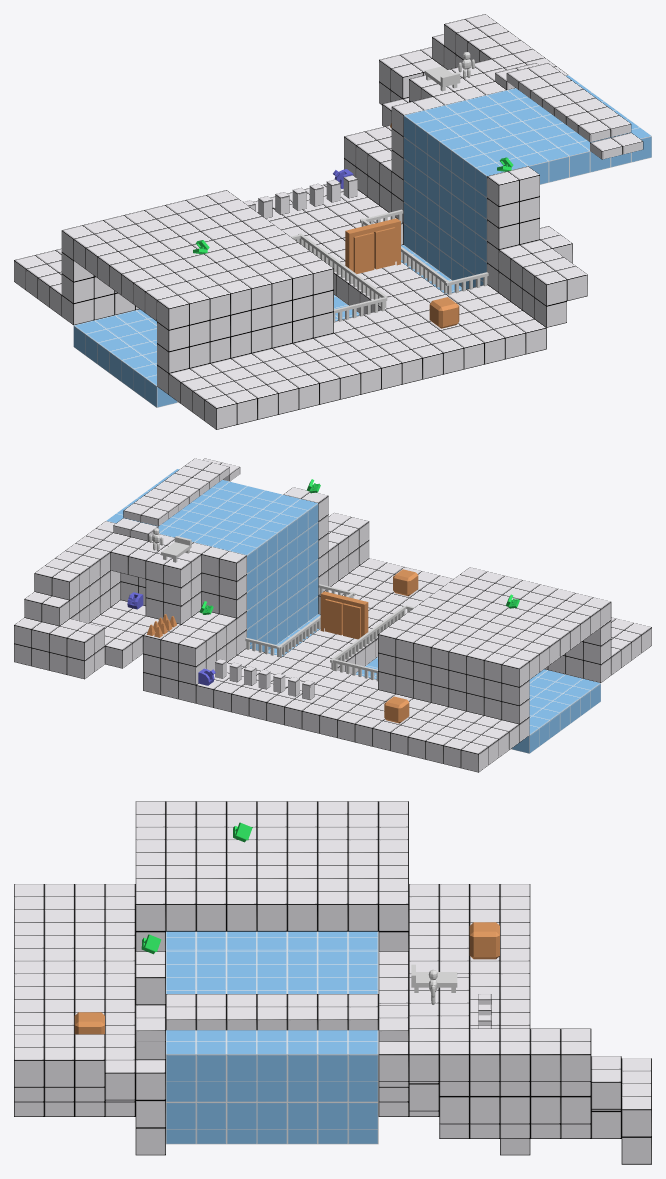
File: stage blockout.fbx
The picture shows the model from 3 angles, top to bottom: view 1: azimuth 30°, elevation 25°; view 2: azimuth 150°, elevation 25°; view 3: azimuth 270°, elevation 25°; orthographic projection. The views are drawn at different scales.
Visible parts, largest first — view 1: Cube.021, Cube.032, Cube.011, Cube.012, Cube.031, Cube.002, Cube.020, Cube.015, Cube.023, Cube.022, Cube.003, Cube.009 (+12 smaller); view 2: Cube.032, Cube.002, Cube.011, Cube.004, Cube.003, Cube.021, Cube.012, Cube.030, Cube.007, Cube.005, Cube.015, Cube.023 (+15 smaller); view 3: Cube.032, Cube.021, Cube.012, Cube.002, Cube.011, Cube.005, Cube.020, Cube.004, Cube.023, Cube.015, Cube.007, Cube.008 (+11 smaller).
Boxes of the visible parts, left/top/right/bottom form: Cube.021: left=157, top=285, right=546, bottom=429; Cube.032: left=61, top=190, right=333, bottom=330; Cube.011: left=403, top=110, right=504, bottom=289; Cube.012: left=424, top=75, right=651, bottom=184; Cube.031: left=157, top=290, right=333, bottom=373; Cube.002: left=14, top=184, right=403, bottom=325; Cube.020: left=487, top=226, right=587, bottom=327; Cube.015: left=73, top=295, right=359, bottom=407; Cube.023: left=506, top=63, right=631, bottom=142; Cube.022: left=487, top=166, right=539, bottom=249; Cube.003: left=344, top=125, right=403, bottom=222; Cube.009: left=316, top=237, right=444, bottom=313; Cube.032: left=378, top=567, right=611, bottom=687; Cube.002: left=196, top=648, right=529, bottom=772; Cube.011: left=229, top=499, right=318, bottom=651; Cube.004: left=75, top=521, right=211, bottom=624; Cube.003: left=143, top=611, right=246, bottom=703; Cube.021: left=318, top=558, right=651, bottom=682; Cube.012: left=106, top=469, right=299, bottom=550; Cube.030: left=378, top=653, right=529, bottom=724; Cube.007: left=14, top=617, right=104, bottom=679; Cube.005: left=34, top=543, right=110, bottom=623; Cube.015: left=356, top=657, right=600, bottom=753; Cube.023: left=123, top=458, right=229, bottom=526; Cube.032: left=135, top=801, right=408, bottom=931; Cube.021: left=14, top=884, right=135, bottom=1116; Cube.012: left=166, top=964, right=378, bottom=1081; Cube.002: left=378, top=884, right=530, bottom=1116; Cube.011: left=166, top=951, right=378, bottom=1129; Cube.005: left=469, top=1028, right=591, bottom=1124; Cube.020: left=14, top=1034, right=165, bottom=1155; Cube.004: left=378, top=977, right=469, bottom=1138; Cube.023: left=166, top=994, right=378, bottom=1030; Cube.015: left=166, top=931, right=378, bottom=951; Cube.007: left=591, top=1058, right=651, bottom=1164; Cube.008: left=166, top=1129, right=378, bottom=1144.
Size of the model in its own units: 2400 by 823 by 2100.
Materials: 5 (2 with a texture image).
